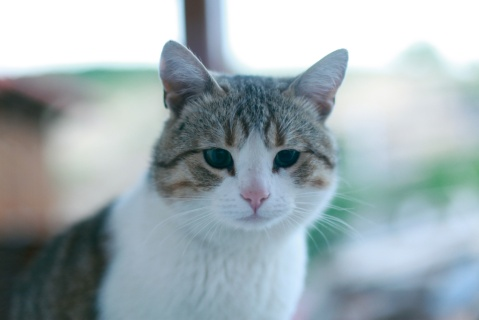Cat: (0, 37, 374, 319)
